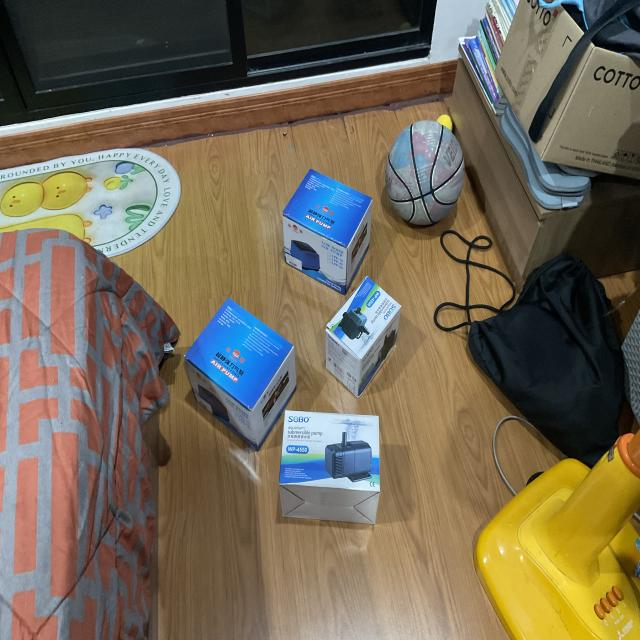SOBO_WP_4200: (270, 396, 385, 540), (312, 275, 409, 406)
YAMANO_LPP_20: (182, 294, 301, 450), (280, 149, 380, 290)
